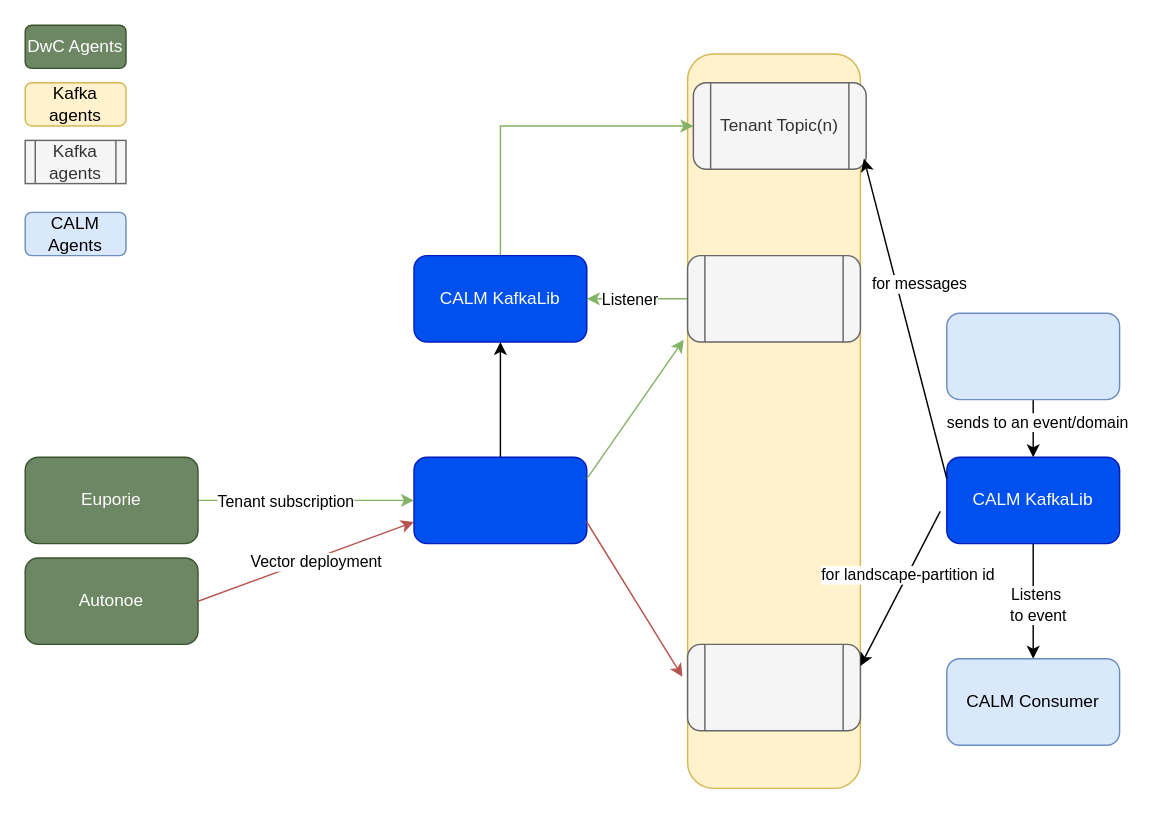
The diagram is 1152 pixels wide and 814 high, and some of its shapes have lost their labels. Here are the shapes that lost their labels. From the top down, the box of each, then its label:
(686, 254, 860, 342): Subscription Topic
(945, 312, 1120, 400): CALM Producer
(686, 53, 860, 788): Kafka cluster
(413, 456, 587, 544): CALM Kafka Controller
(686, 643, 860, 731): Filter Topic
